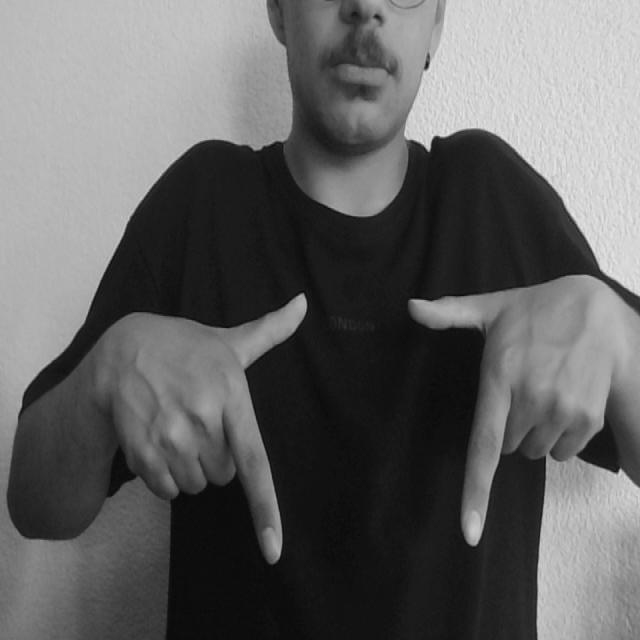Nerede: (210, 282, 512, 569)
